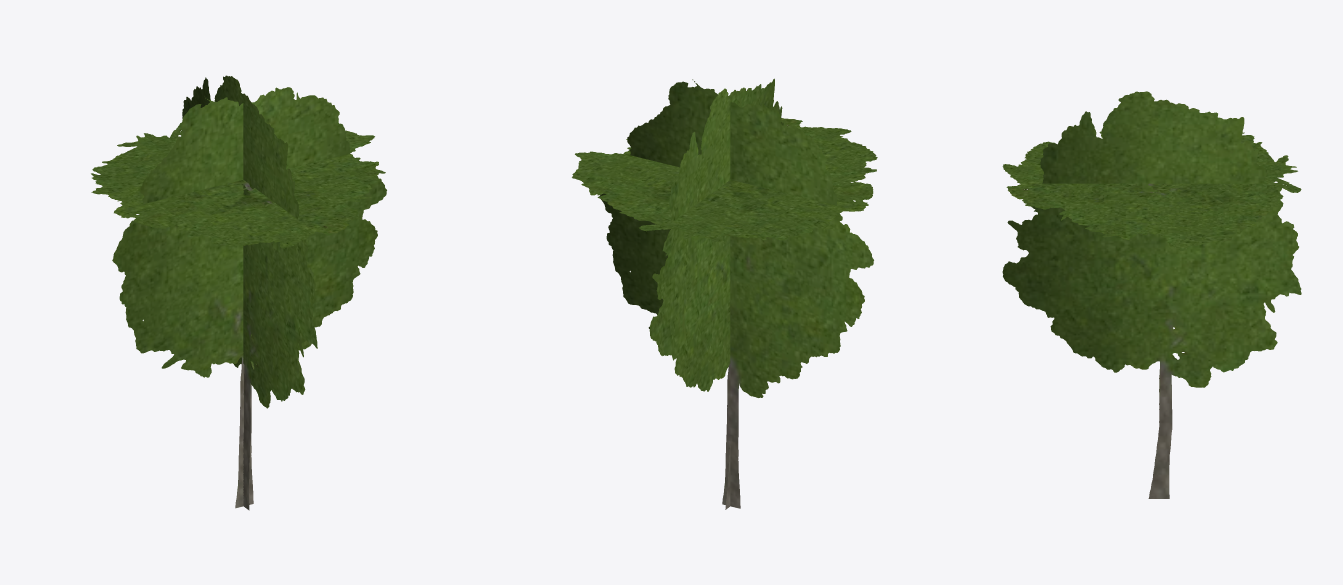
The model's file is arbre_feuillu_jeune_lod2.glb.
The picture shows the model from 3 angles, left to right: view 1: azimuth 30°, elevation 25°; view 2: azimuth 150°, elevation 25°; view 3: azimuth 270°, elevation 25°; orthographic projection. The views are drawn at different scales.
Visible parts, largest first — view 1: arbre_feuillu_jeune_lod2; view 2: arbre_feuillu_jeune_lod2; view 3: arbre_feuillu_jeune_lod2.
Part boxes in pixels (left/top/right/bottom): arbre_feuillu_jeune_lod2: left=91, top=75, right=386, bottom=510; arbre_feuillu_jeune_lod2: left=572, top=78, right=877, bottom=509; arbre_feuillu_jeune_lod2: left=1002, top=91, right=1301, bottom=498.
Size of the model in its own units: 4.65 by 6.21 by 4.65.
Materials: 1 (1 with a texture image).
